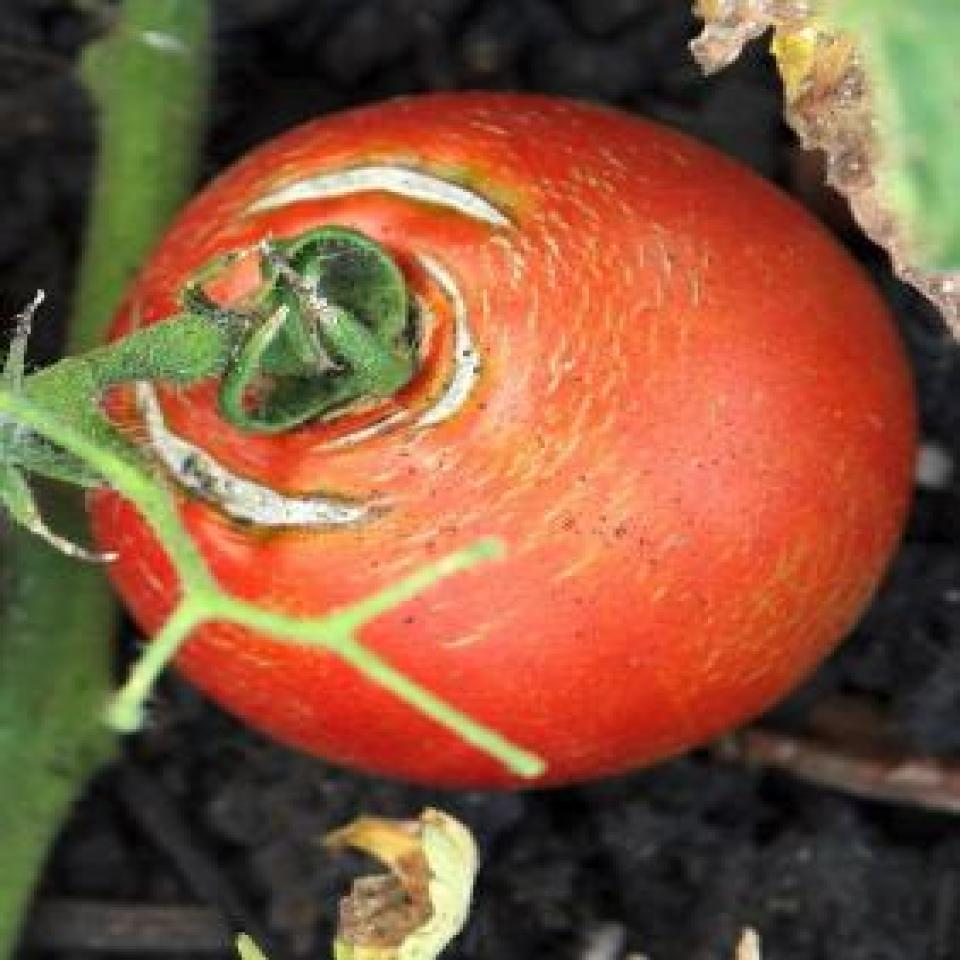Cracking: (101, 262, 398, 548), (338, 215, 520, 422), (201, 149, 539, 240)
